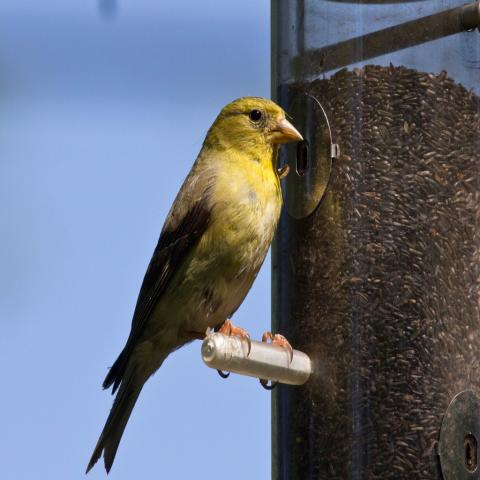bird: (84, 93, 305, 474)
